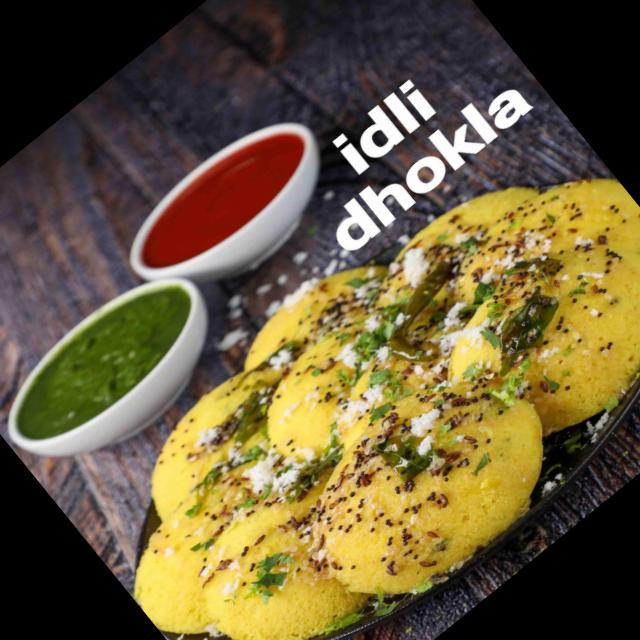dhokla: (59, 97, 640, 640)
